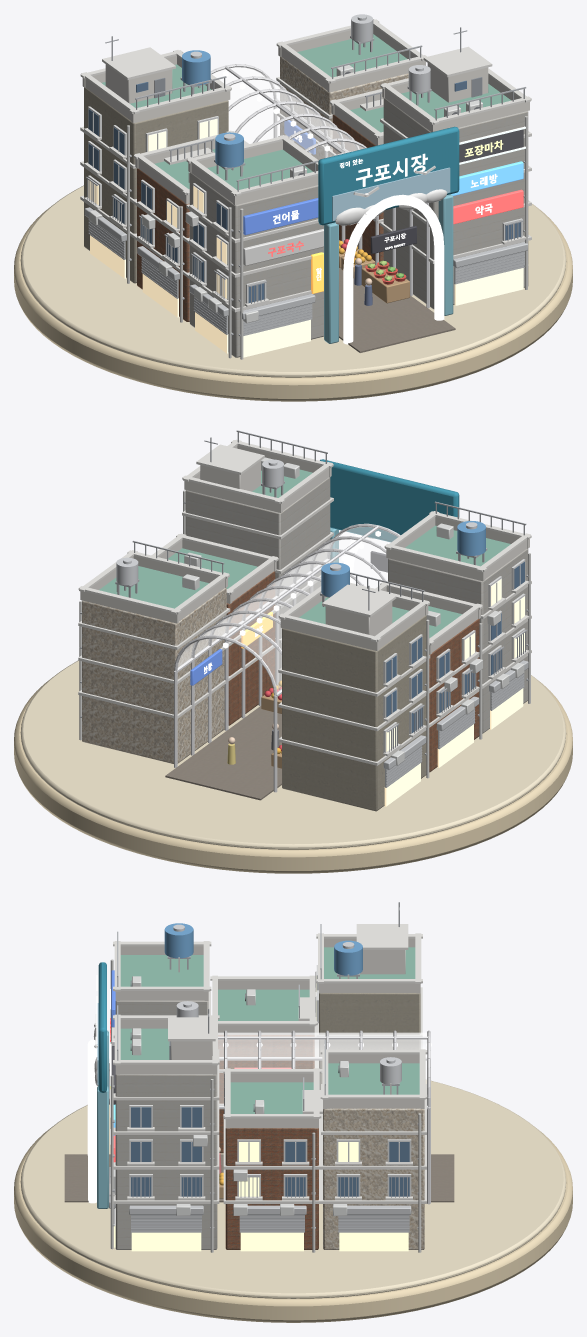
File: gupomarket.glb
3 views of the same model, one above another, from view 1: azimuth 30°, elevation 25°; view 2: azimuth 150°, elevation 25°; view 3: azimuth 270°, elevation 25° (orthographic).
Parts seen in each view (by area): view 1: Base_Top, Base, R1, L1, Gate_Board, L3, Arcade_Roof, Alley, R3, L2, Gate_BoardSky, DET_RoofSurf_0367 (+56 smaller); view 2: Base_Top, L3, R3, Base, R1, Arcade_Roof, Gate_Board, Alley, L1, R2, L2, DET_RoofSurf_0367 (+30 smaller); view 3: Base_Top, Base, R1, R3, L3, Arcade_Roof, R2, L2, DET_RoofSurf_0085, DET_RoofSurf_0004, Alley, DET_RoofSurf_0367 (+41 smaller).
Boxes of the visible parts, x1,y1,x2,y2 form: Base_Top: (20,185,566,377); Base: (14,208,572,401); R1: (383,98,528,309); L1: (189,172,323,357); Gate_Board: (318,126,459,225); L3: (84,87,228,283); Arcade_Roof: (212,67,364,159); Alley: (339,268,455,352); R3: (280,57,408,159); L2: (137,168,189,321); Gate_BoardSky: (332,167,450,220); DET_RoofSurf_0367: (297,34,407,77); Base_Top: (20,660,566,849); L3: (282,615,426,811); R3: (82,588,226,763); Base: (14,677,572,873); R1: (185,477,330,682); Arcade_Roof: (178,526,397,692); Gate_Board: (320,459,459,542); Alley: (165,706,281,800); L1: (388,549,528,733); R2: (226,571,275,725); L2: (429,619,479,772); DET_RoofSurf_0367: (99,566,208,608); Base_Top: (20,1079,566,1298); Base: (14,1128,572,1322); R1: (115,1074,217,1249); R3: (323,1108,424,1249); L3: (319,993,420,1089); Arcade_Roof: (218,1032,427,1105); R2: (225,1128,318,1249); L2: (218,1035,314,1153); DET_RoofSurf_0085: (218,989,309,1020); DET_RoofSurf_0004: (120,955,203,986); Alley: (64,1154,454,1202); DET_RoofSurf_0367: (328,1063,419,1094).
Size of the model in its own units: 6.6 by 3.37 by 6.6.
Materials: 59 (7 with a texture image).
